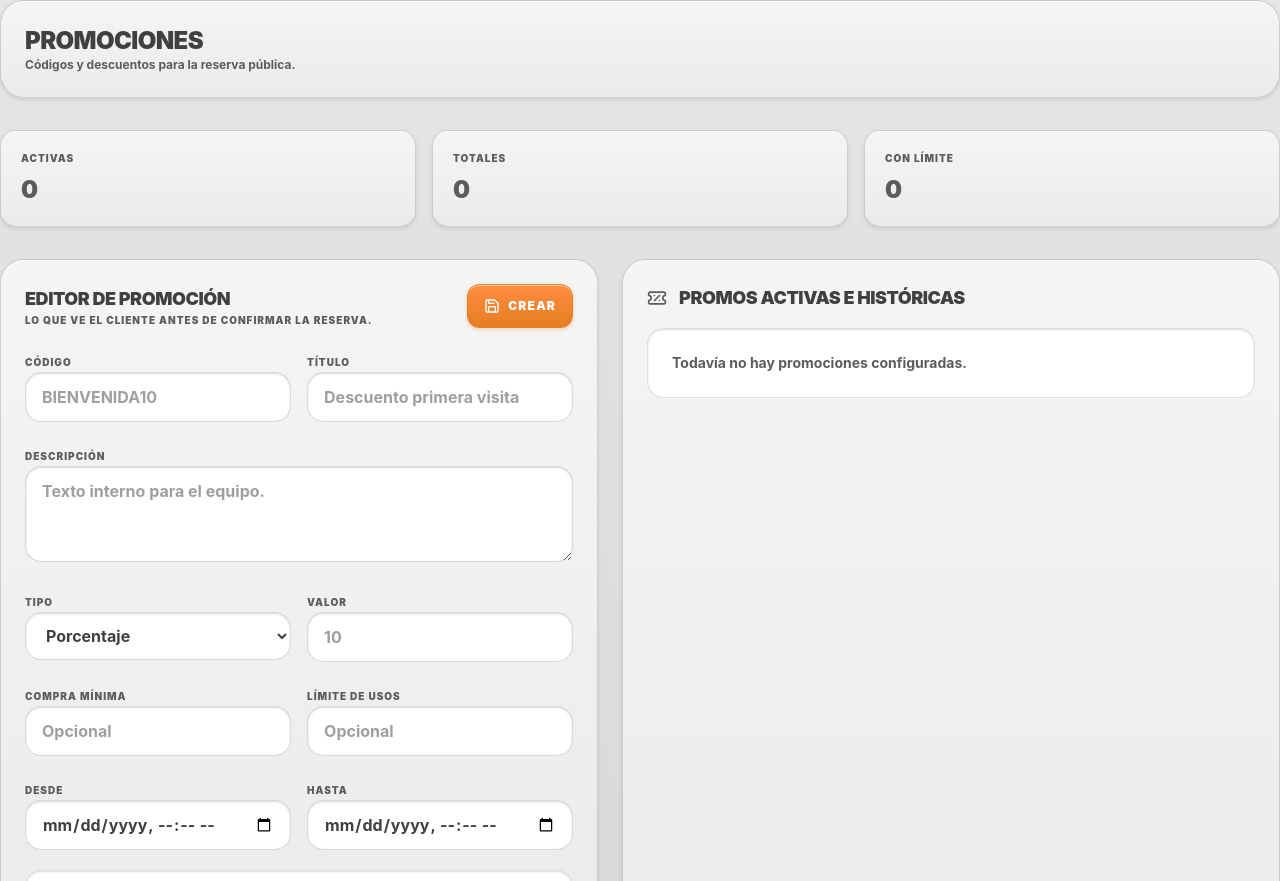
Test case: PromotionsPage › explica las restricciones del porcentaje, los opcionales y el rango de vigencia
Type "REGALO10" into the field labelled "Código" at point(158, 397), box [25,372,291,422]
Type "Regalo" into the field labelled "Título" at point(440, 397), box [307,372,573,422]
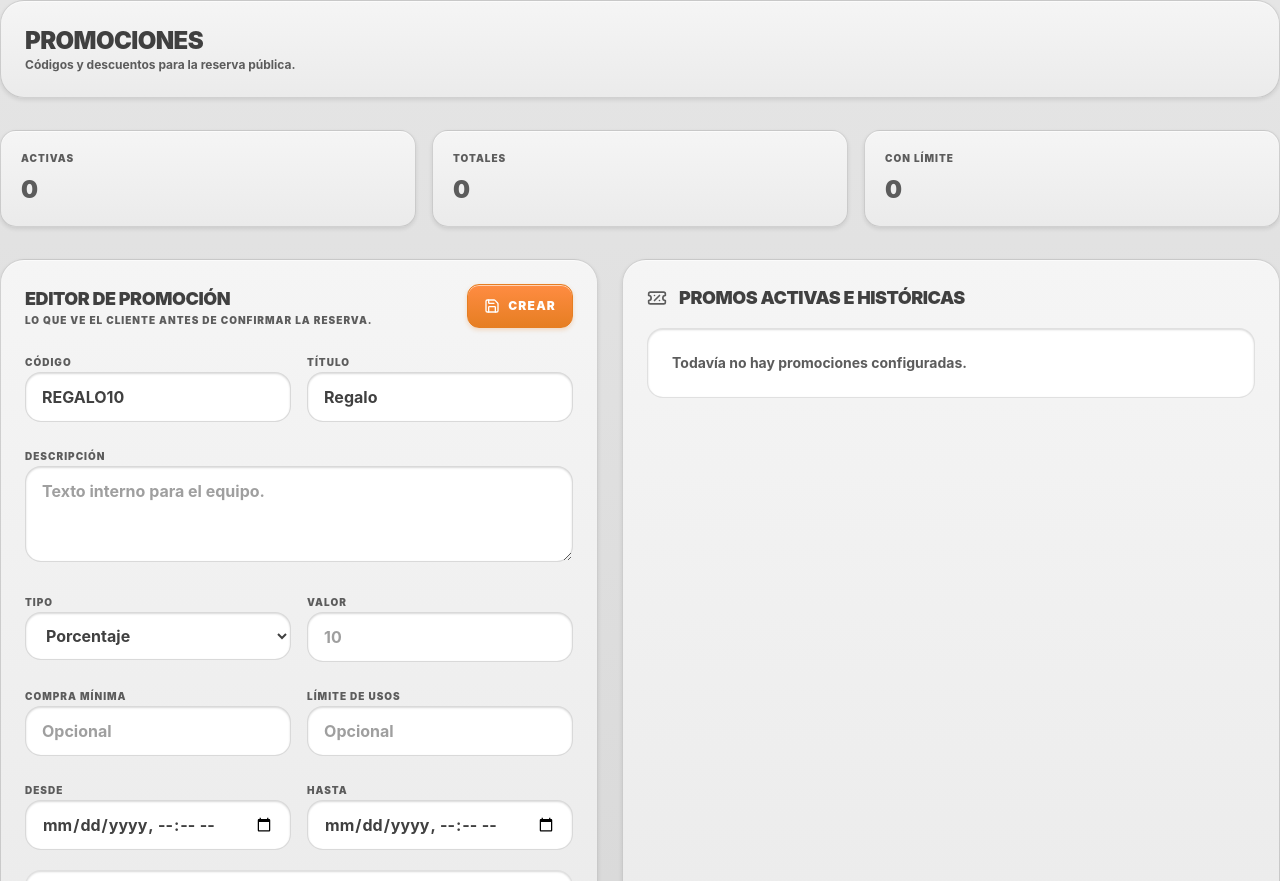
Type "101" into the number field labelled "Valor" at point(440, 637), box [307,612,573,662]
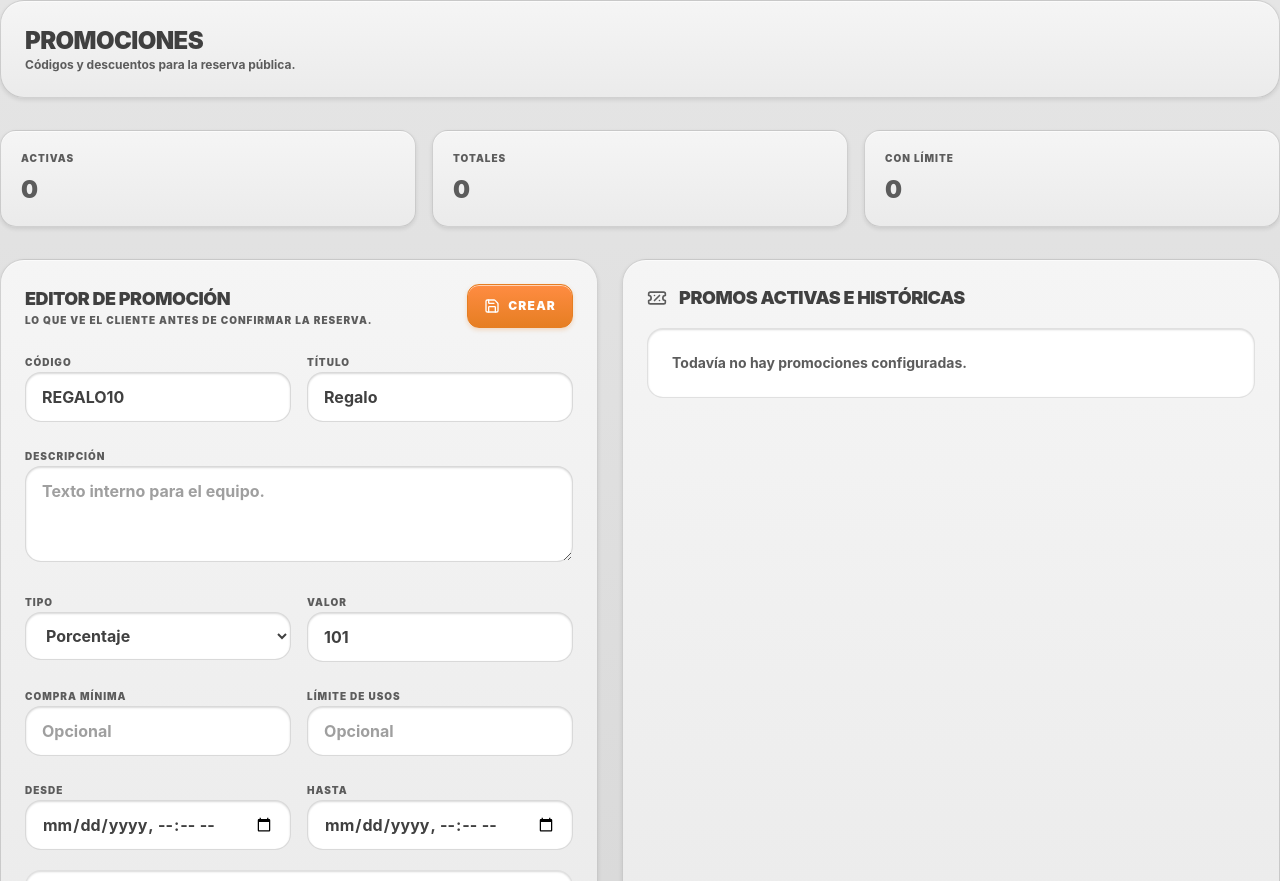
Type "1.5" into the number field labelled "Límite de usos" at point(440, 731), box [307,706,573,756]
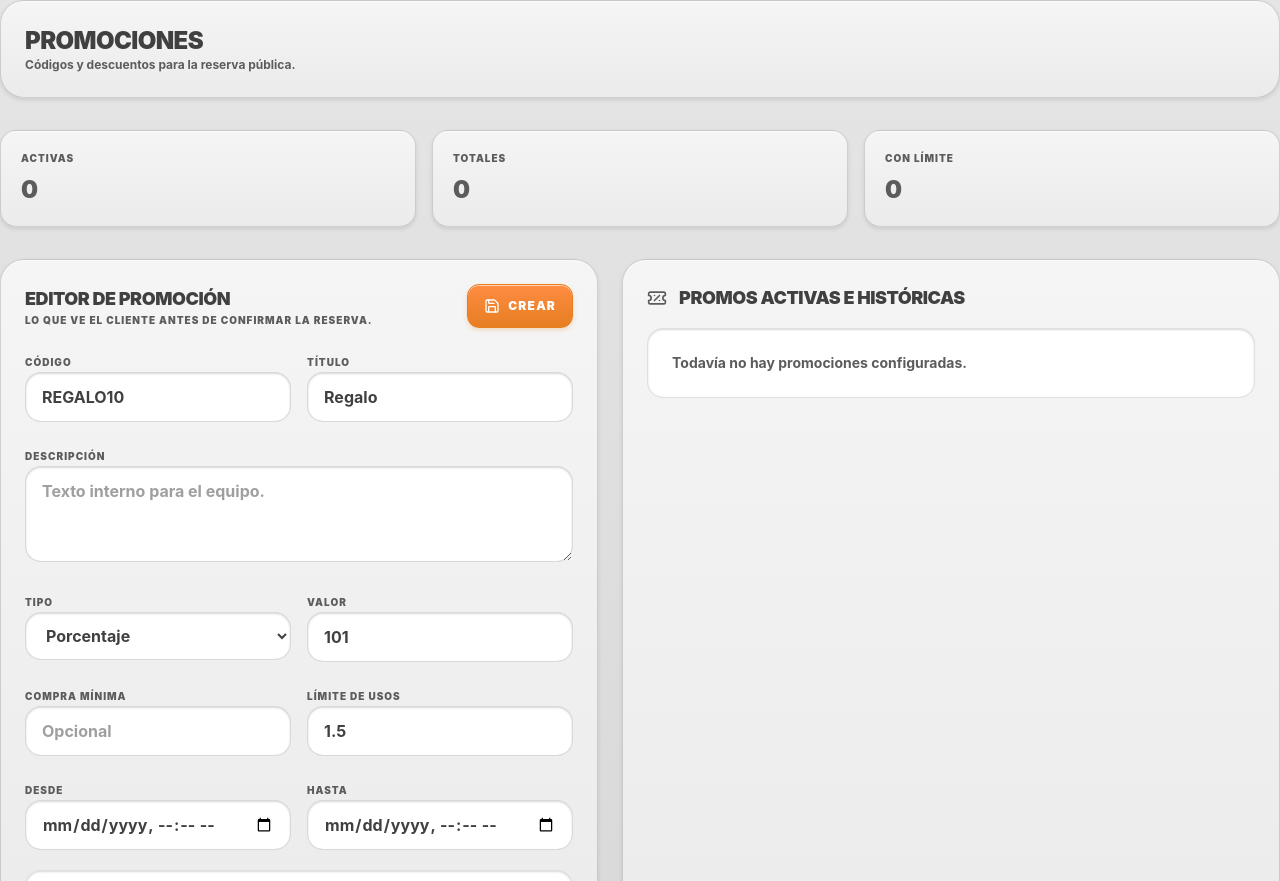
Type "2026-10-20T12:00" into the field labelled "Desde" at point(158, 825), box [25,800,291,850]
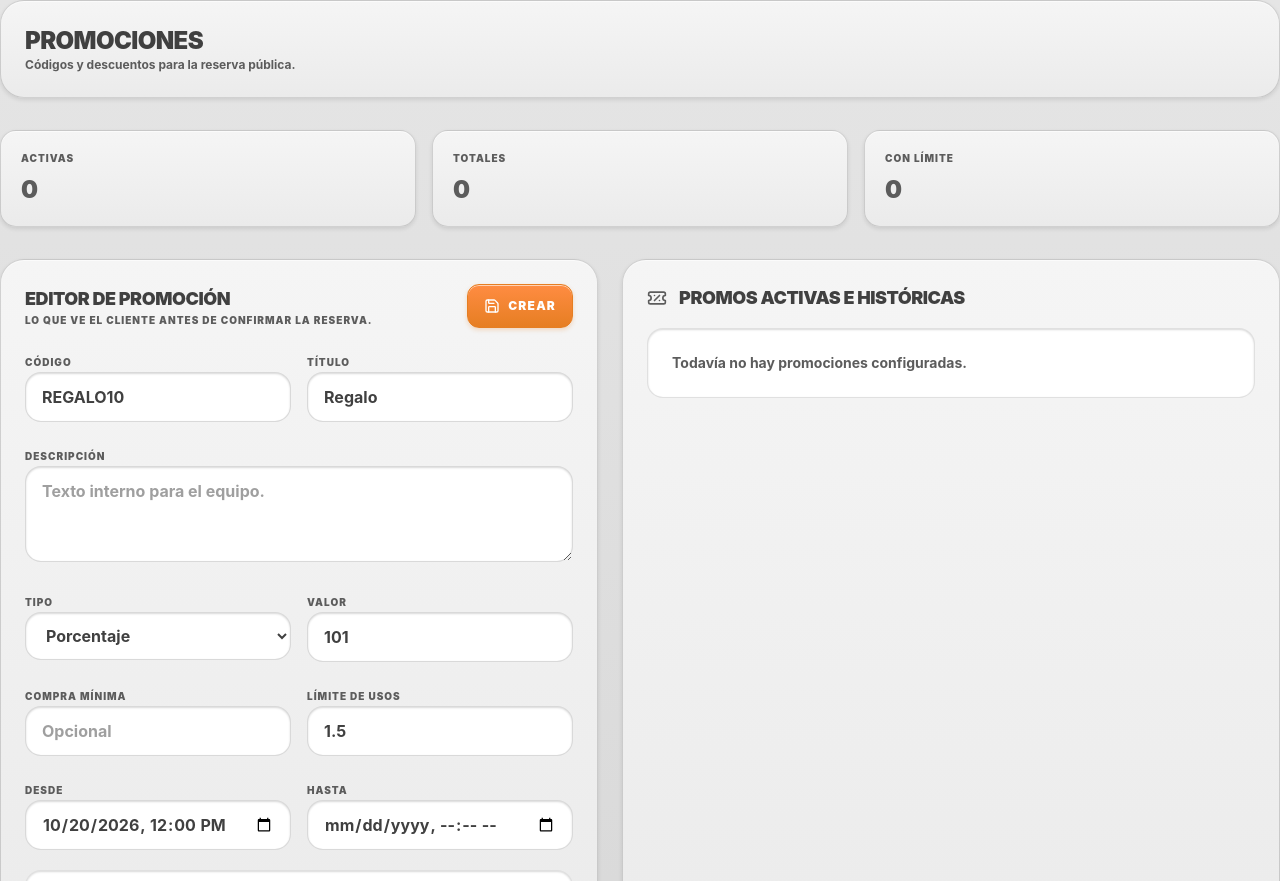
Type "2026-10-20T11:00" into the field labelled "Hasta" at point(440, 825), box [307,800,573,850]
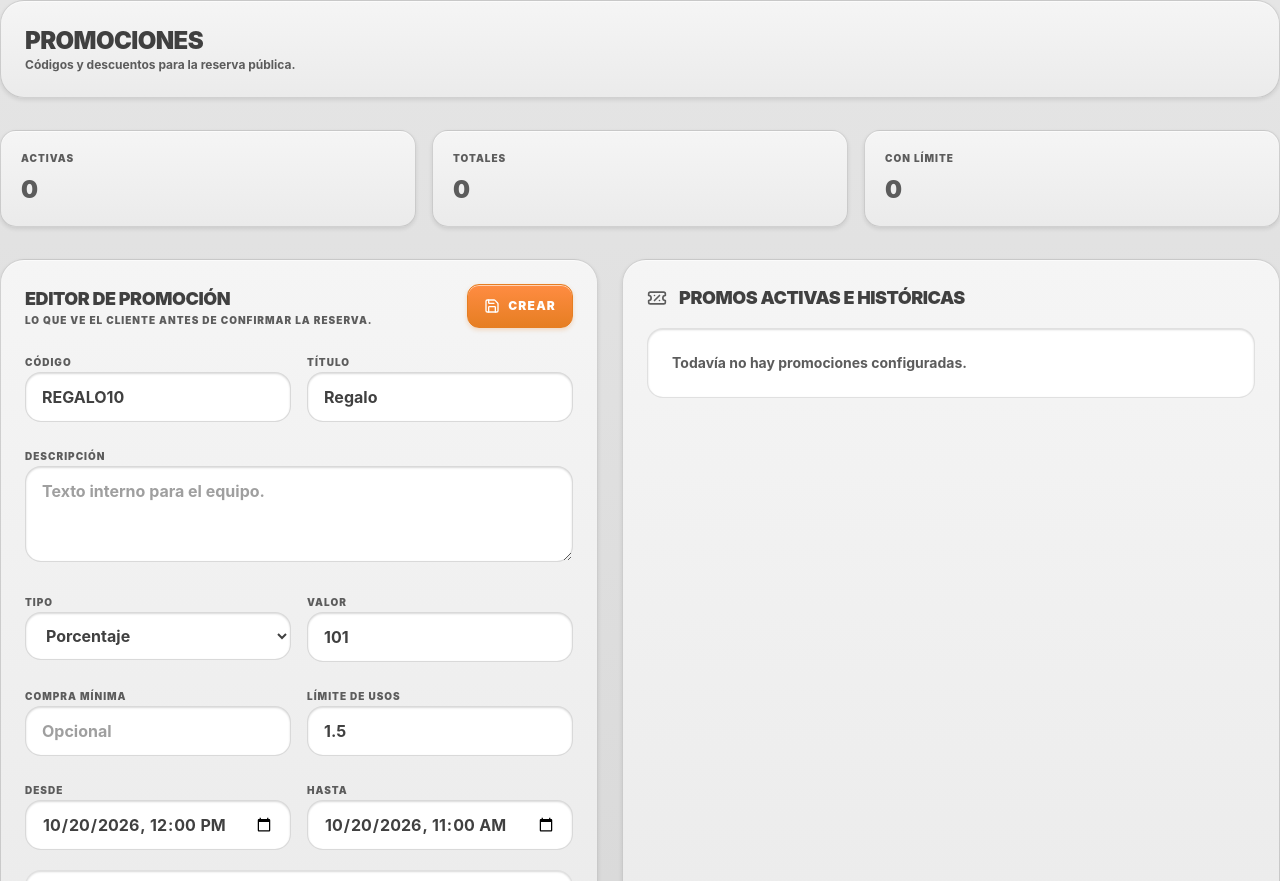
Click the button "Crear" at point(520, 306), box [467,284,573,328]
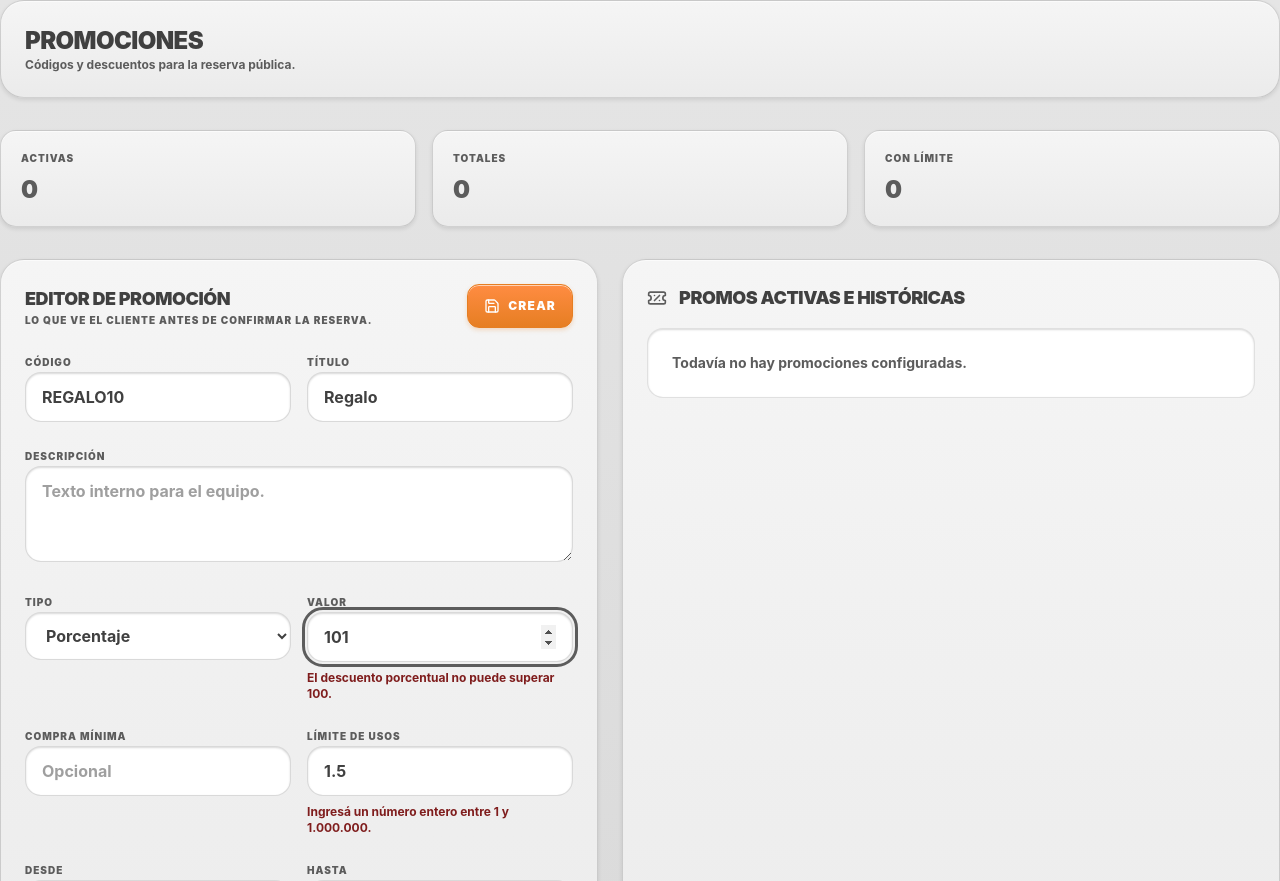
Expected: the text "El descuento porcentual no puede superar 100." is shown, [307,670,573,702]
Expected: the text "Ingresá un número entero entre 1 y 1.000.000." is shown, [307,804,509,835]
